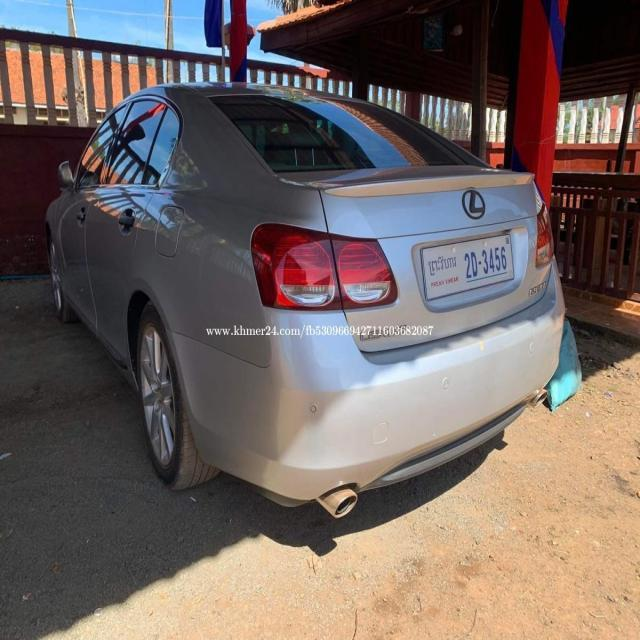Preah_Vihear: (427, 253, 459, 278)
